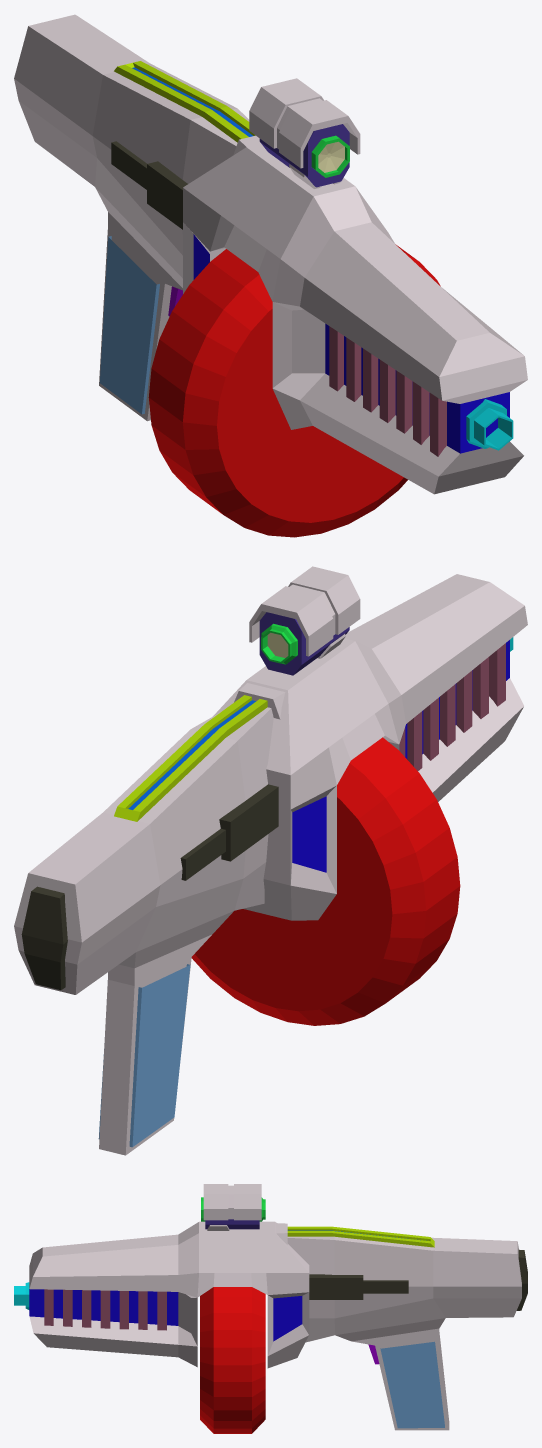
File: Droid Rifle.fbx
The picture shows the model from 3 angles, top to bottom: view 1: azimuth 30°, elevation 25°; view 2: azimuth 150°, elevation 25°; view 3: azimuth 270°, elevation 25°; orthographic projection. The views are drawn at different scales.
Parts seen in each view (by area): view 1: Rifle-Low; view 2: Rifle-Low; view 3: Rifle-Low.
Boxes of the visible parts, left/top/right/bottom form: Rifle-Low: left=14, top=14, right=527, bottom=537; Rifle-Low: left=14, top=566, right=527, bottom=1155; Rifle-Low: left=14, top=1184, right=527, bottom=1433.
Bounding box in the file's own units: 22.2 × 32.27 × 63.22.
